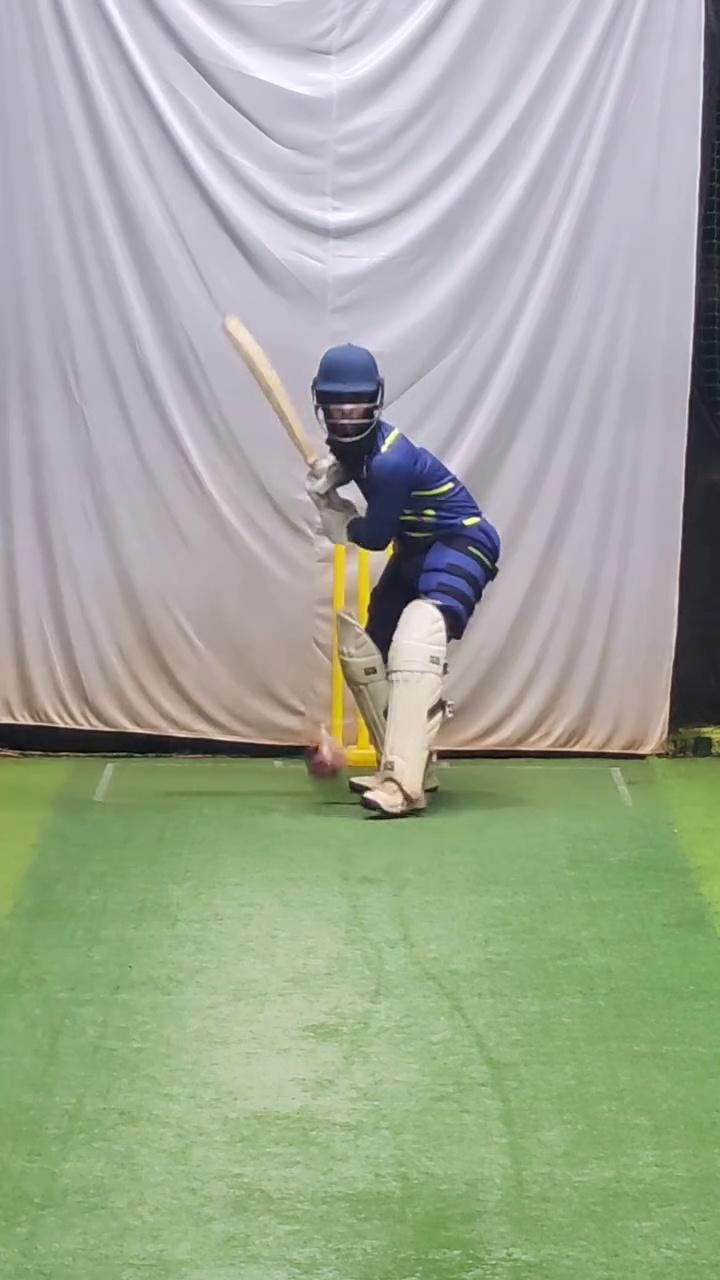bat: (217, 307, 320, 471)
